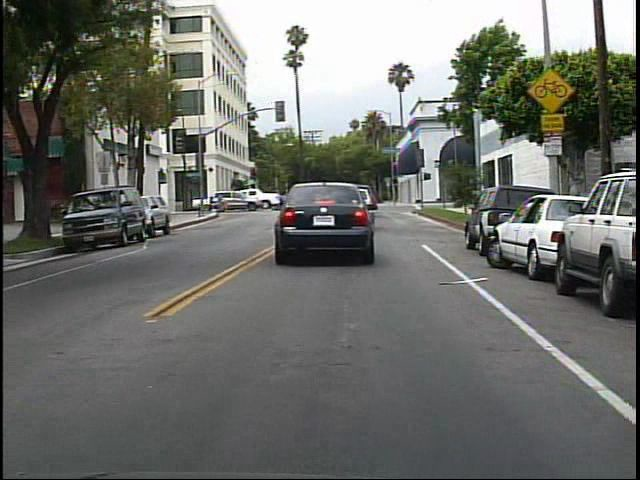person: (212, 188, 230, 218)
